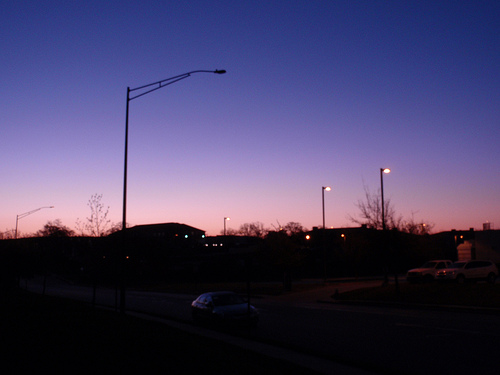car: (186, 288, 263, 334)
